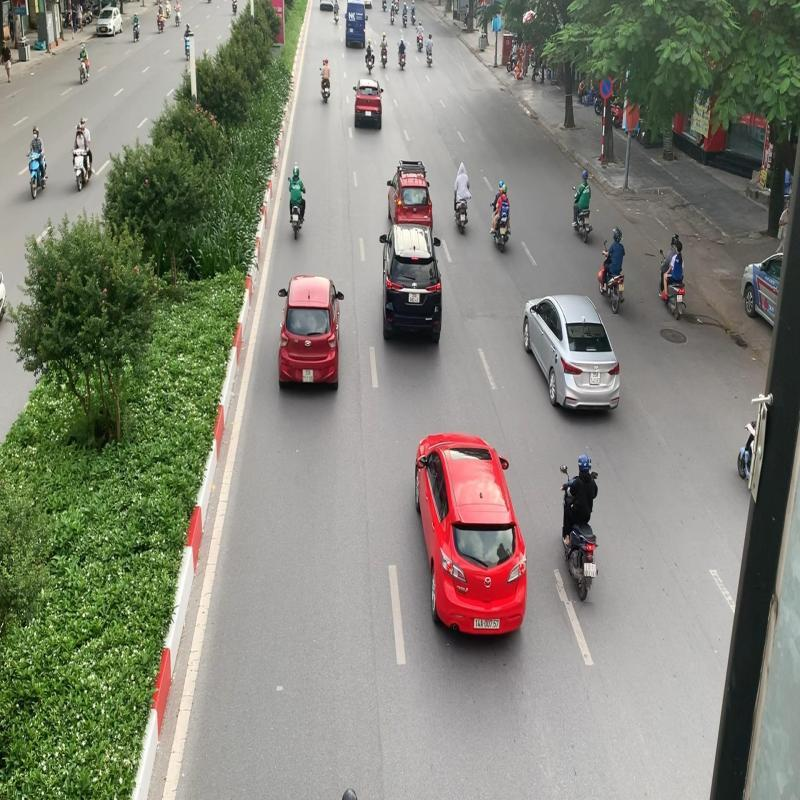helmet: (577, 453, 590, 472), (612, 227, 622, 242), (670, 233, 680, 247)
licenseplate: (586, 562, 596, 577), (678, 296, 684, 304), (618, 284, 624, 292)
motorcyclist: (558, 451, 600, 602), (658, 232, 687, 322), (598, 227, 628, 314)
nohelmet: (676, 240, 682, 256)
